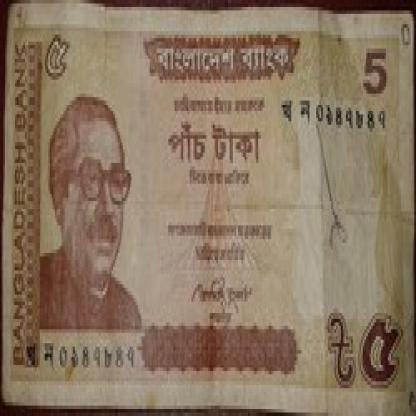Five Taka: (165, 118, 266, 170), (360, 305, 404, 409), (40, 28, 70, 86), (364, 42, 388, 108)
